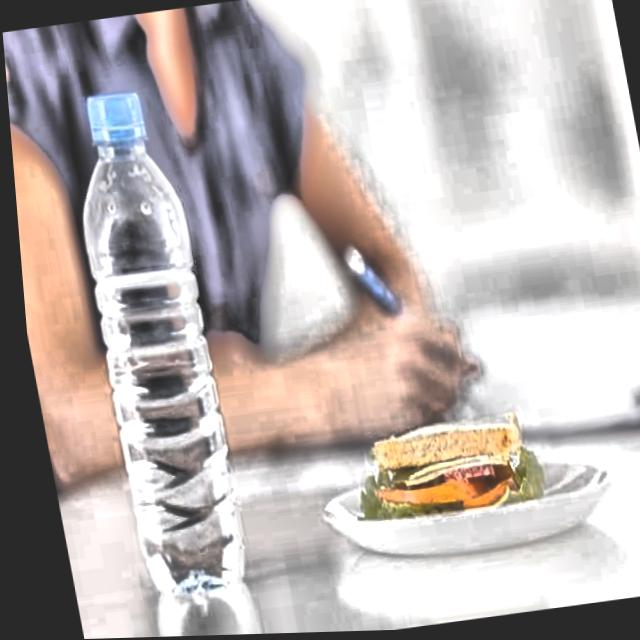Bottles: (48, 67, 253, 613)
